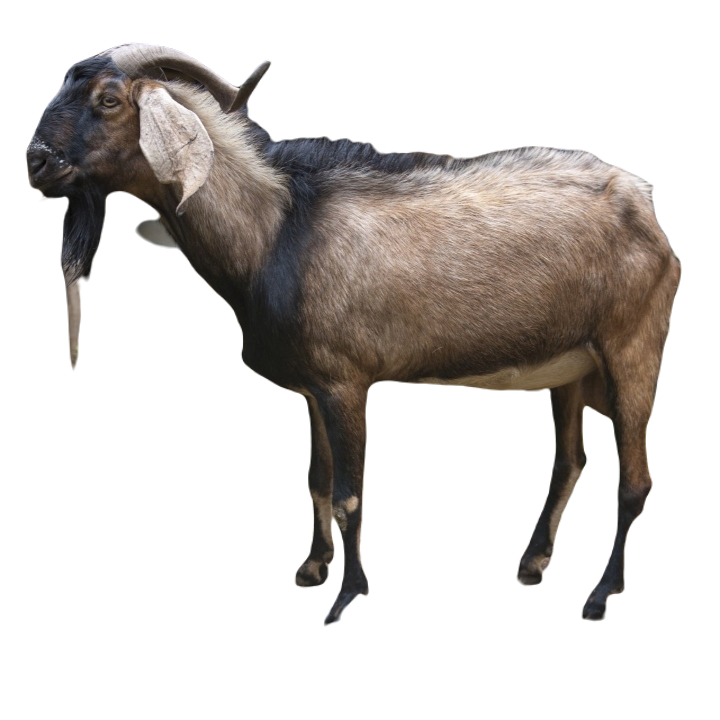Goat: (24, 45, 684, 621)
